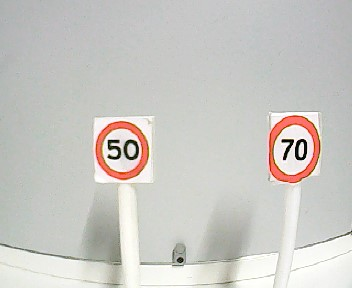50-bord: (97, 121, 150, 179)
70-bord: (270, 115, 319, 180)
